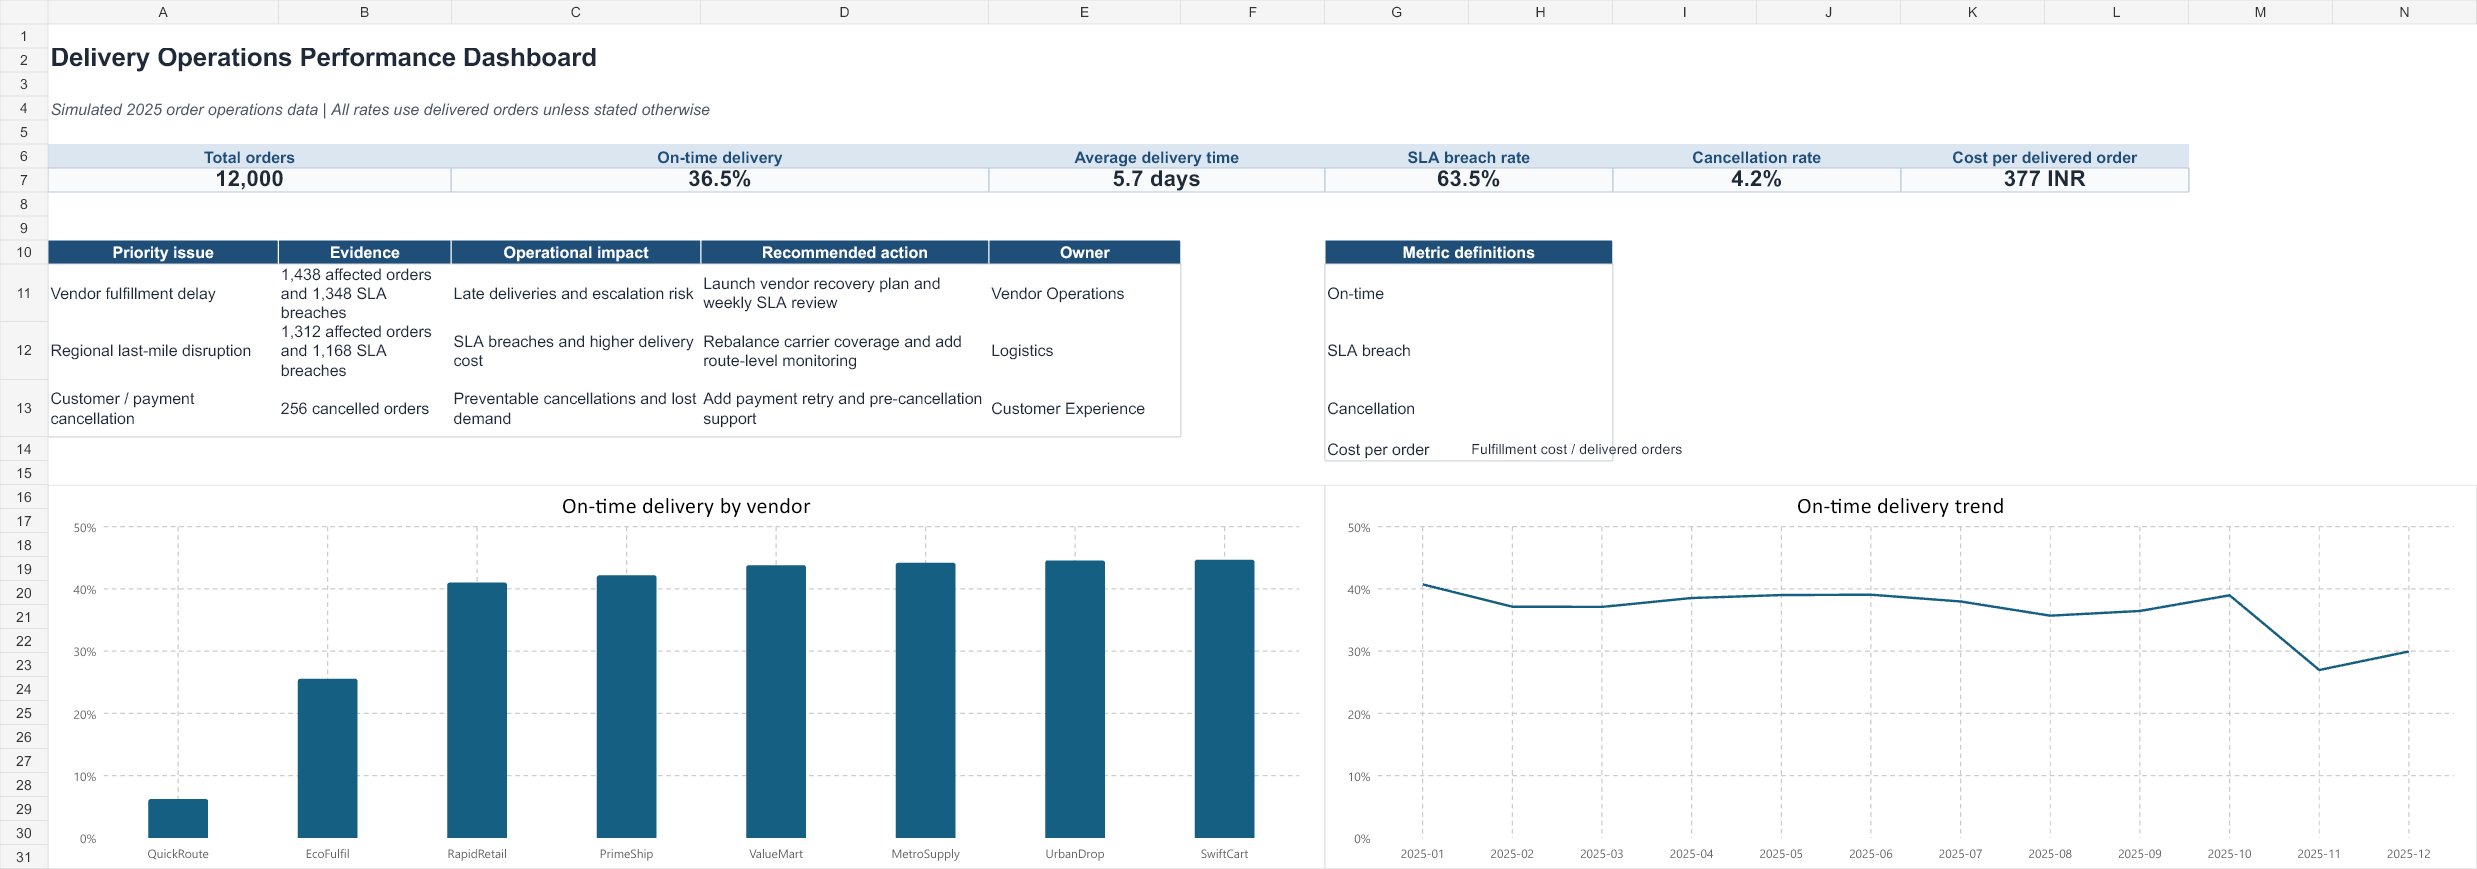

This screenshot's page, from the dashboard's own definition file:
{"tool":"powerbi","page":{"name":"Executive Overview","canvas":[1280,720],"ordinal":0},"visuals":[{"type":"textbox","box":[40,40,900,70],"z":1000},{"type":"textbox","box":[40,80,500,60],"z":1000},{"type":"card","title":"Total Orders","fields":{"Values":["Fact Orders.Total Orders"]},"box":[40,140,185,100],"z":1000},{"type":"card","title":"On-Time Delivery %","fields":{"Values":["Fact Orders.On-Time Delivery %"]},"box":[240,140,185,100],"z":1000},{"type":"card","title":"Average Delivery Days","fields":{"Values":["Fact Orders.Average Delivery Days"]},"box":[440,140,185,100],"z":1000},{"type":"card","title":"SLA Breach Rate","fields":{"Values":["Fact Orders.SLA Breach Rate"]},"box":[40,250,185,100],"z":1000},{"type":"card","title":"Cancellation Rate","fields":{"Values":["Fact Orders.Cancellation Rate"]},"box":[240,250,185,100],"z":1000},{"type":"card","title":"Freight Cost per Delivered Order","fields":{"Values":["Fact Orders.Freight Cost per Delivered Order"]},"box":[440,250,185,100],"z":1000},{"type":"lineChart","title":"Monthly On-Time Delivery %","fields":{"Category":["Fact Orders.purchase_month"],"Y":["Fact Orders.On-Time Delivery %"]},"box":[40,420,760,260],"z":1000},{"type":"clusteredBarChart","title":"Vendor On-Time Rate","fields":{"Category":["Vendor Performance.vendor"],"Y":["Vendor Performance.Vendor On-Time Rate"]},"box":[830,420,420,260],"z":1000}]}

Visuals, with their boxes on the page's 1280x720 design canvas (x1, y1, x2, y2). These are canvas units, not pixel positions in the 2477x869 screenshot, which may show the page scaled, cropped or inside an application window:
textbox: [40,40,940,110]
textbox: [40,80,540,140]
"Total Orders" card: [40,140,225,240]
"On-Time Delivery %" card: [240,140,425,240]
"Average Delivery Days" card: [440,140,625,240]
"SLA Breach Rate" card: [40,250,225,350]
"Cancellation Rate" card: [240,250,425,350]
"Freight Cost per Delivered Order" card: [440,250,625,350]
"Monthly On-Time Delivery %" lineChart: [40,420,800,680]
"Vendor On-Time Rate" clusteredBarChart: [830,420,1250,680]
